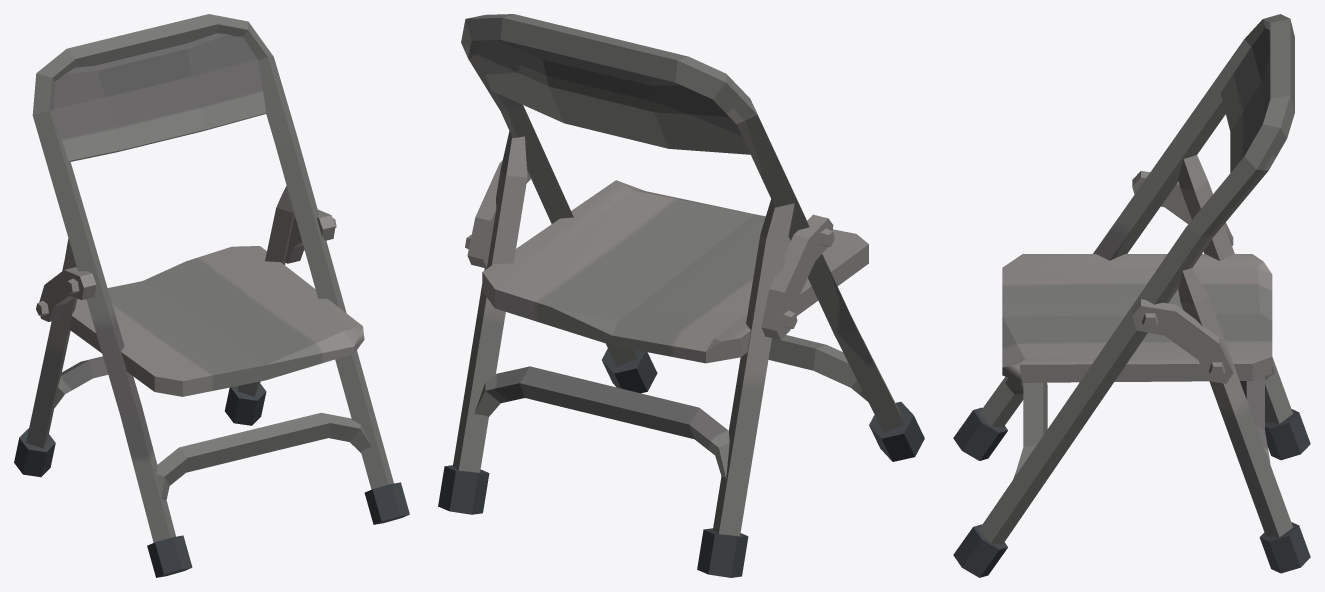
The model's file is SM_Prop_Chair_04.fbx.
3 views of the same model, side by side, from view 1: azimuth 30°, elevation 25°; view 2: azimuth 150°, elevation 25°; view 3: azimuth 270°, elevation 25° (orthographic). The views are drawn at different scales.
Parts seen in each view (by area): view 1: SM_Prop_Chair_04; view 2: SM_Prop_Chair_04; view 3: SM_Prop_Chair_04.
Part boxes in pixels (box(x1,y1,x2,y2)): SM_Prop_Chair_04: box(14, 14, 409, 577); SM_Prop_Chair_04: box(438, 14, 924, 577); SM_Prop_Chair_04: box(953, 14, 1310, 577).
Bounding box in the file's own units: 70.52 × 107 × 75.07.
